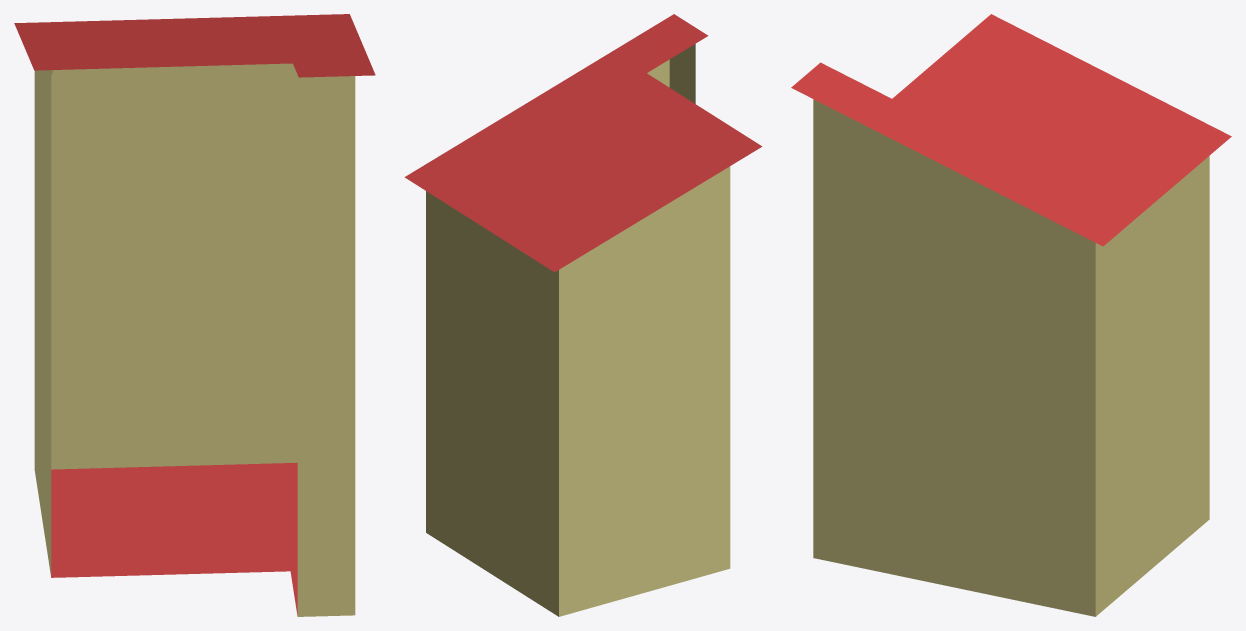
3 views of the same model, side by side, from view 1: azimuth 30°, elevation 25°; view 2: azimuth 150°, elevation 25°; view 3: azimuth 270°, elevation 25° (orthographic). The views are drawn at different scales.
Size of the model in its own units: 5.69 by 6.61 by 7.83.
